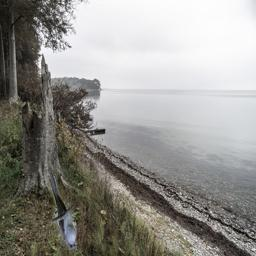Cuckoo: (47, 169, 77, 250)
